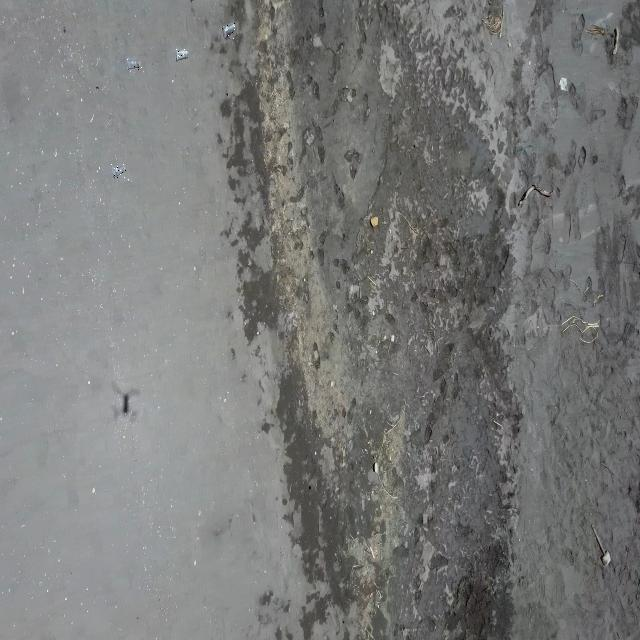takeaway-cup: (174, 46, 189, 64), (222, 21, 236, 38), (111, 163, 126, 178), (127, 57, 142, 70)
